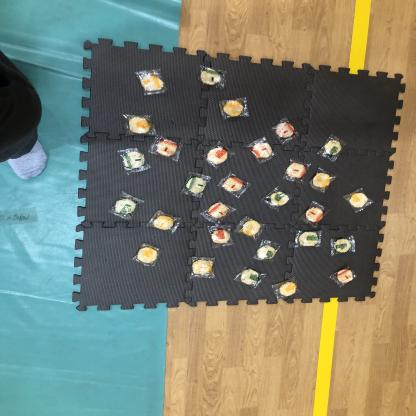green_setoshio: (119, 147, 152, 175), (196, 64, 230, 91), (112, 193, 144, 221), (181, 172, 213, 199), (262, 188, 294, 211), (319, 136, 349, 160), (236, 266, 268, 288), (294, 229, 325, 249), (256, 241, 284, 263), (332, 234, 359, 255)
red_setoshio: (202, 142, 234, 168), (220, 174, 253, 198), (248, 138, 276, 163), (272, 118, 300, 142), (207, 225, 236, 248), (332, 265, 361, 288), (282, 159, 311, 182), (153, 137, 182, 159), (203, 201, 233, 221), (303, 202, 329, 223)
yellow_setoshio: (137, 68, 169, 96), (149, 209, 181, 235), (271, 274, 302, 300), (188, 255, 218, 280), (124, 114, 157, 136), (132, 242, 162, 266), (347, 188, 374, 214), (219, 96, 249, 119), (310, 169, 336, 192), (237, 216, 266, 236)
